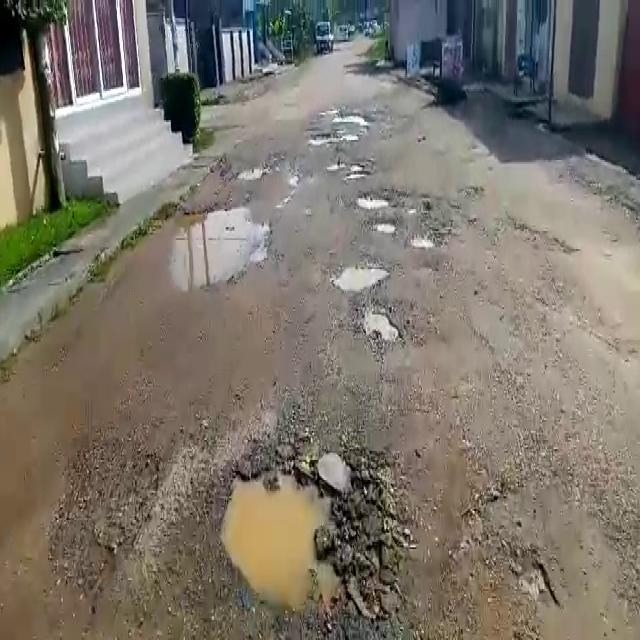Pothole: (215, 451, 398, 629), (129, 213, 272, 288), (357, 299, 403, 346), (334, 259, 388, 293), (308, 128, 361, 146), (355, 190, 397, 209), (333, 109, 375, 127), (335, 164, 375, 180), (407, 230, 440, 248), (371, 220, 399, 235)
